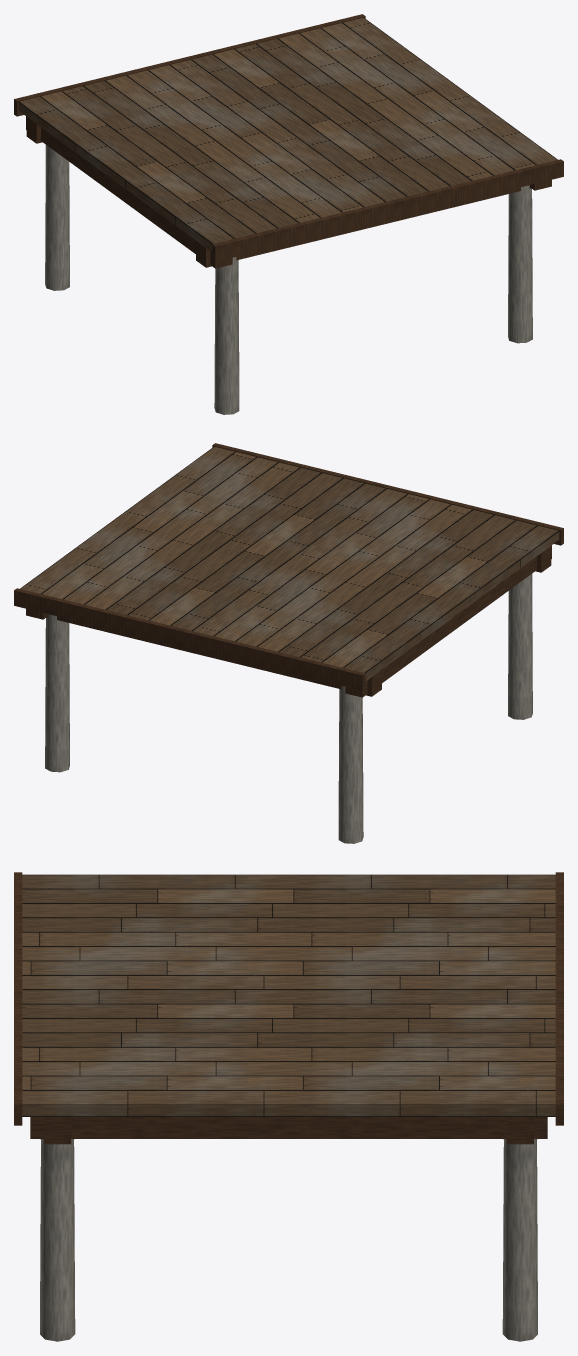
File: SM_Art_Pier_400x400x100_P200.gltf
The picture shows the model from 3 angles, top to bottom: view 1: azimuth 30°, elevation 25°; view 2: azimuth 150°, elevation 25°; view 3: azimuth 270°, elevation 25°; orthographic projection. The views are drawn at different scales.
Visible parts, largest first — view 1: SM_Art_Pier_400x400x100_P200; view 2: SM_Art_Pier_400x400x100_P200; view 3: SM_Art_Pier_400x400x100_P200.
Part boxes in pixels (left/top/right/bottom): SM_Art_Pier_400x400x100_P200: left=14, top=14, right=563, bottom=414; SM_Art_Pier_400x400x100_P200: left=14, top=443, right=563, bottom=843; SM_Art_Pier_400x400x100_P200: left=14, top=872, right=563, bottom=1341.
Size of the model in its own units: 4.04 by 2.01 by 4.04.
3 materials, 3 textured.
